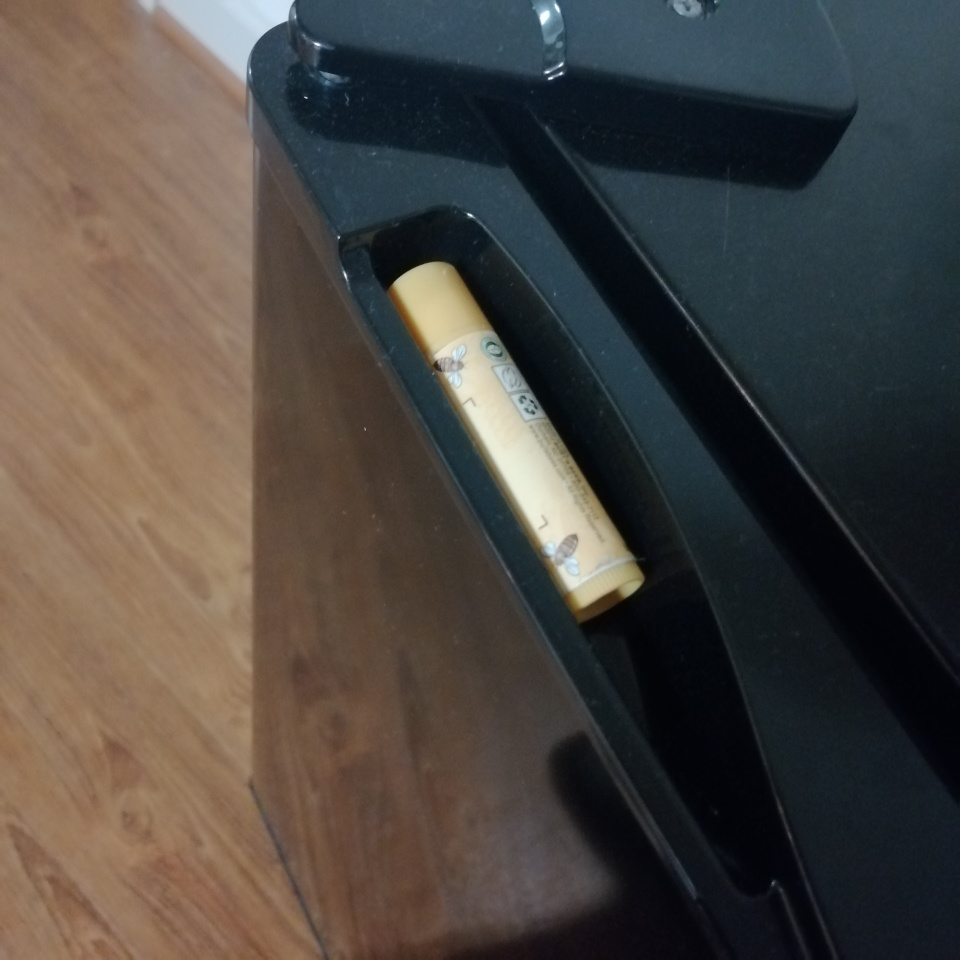chapstick: (387, 258, 646, 625)
